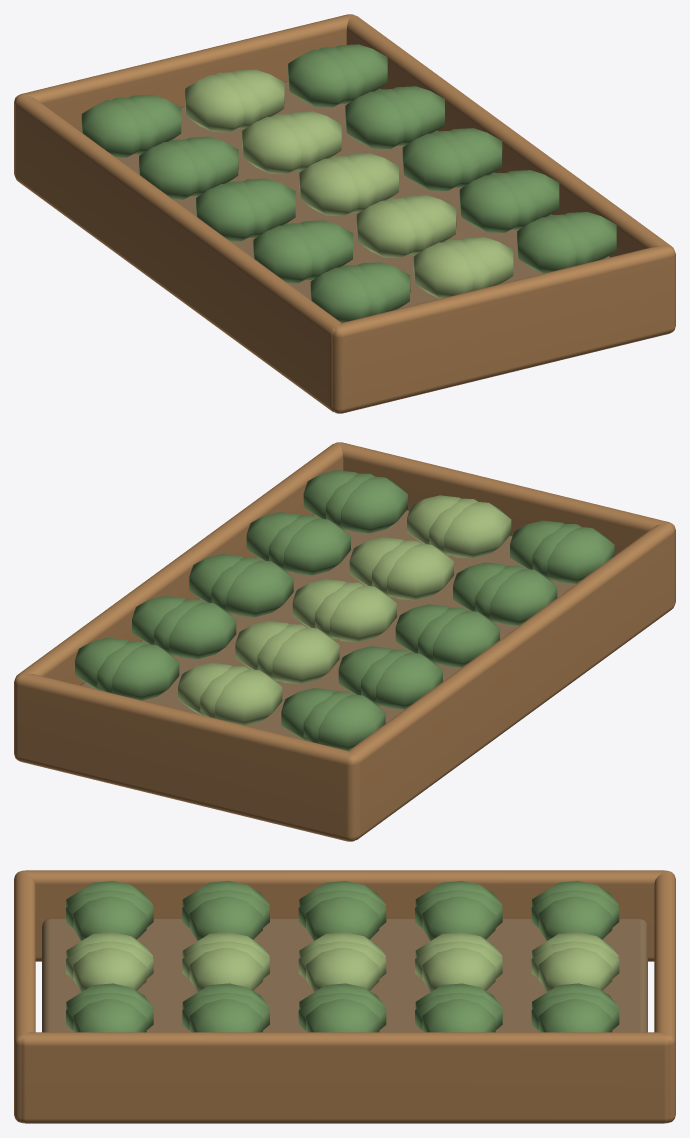
Rendered from garden-bed.glb.
The picture shows the model from 3 angles, top to bottom: view 1: azimuth 30°, elevation 25°; view 2: azimuth 150°, elevation 25°; view 3: azimuth 270°, elevation 25°; orthographic projection.
Visible parts, largest first — view 1: garden-bed_World_Mesh; view 2: garden-bed_World_Mesh; view 3: garden-bed_World_Mesh.
Boxes of the visible parts, x1,y1,x2,y2 form: garden-bed_World_Mesh: (14, 14, 675, 413); garden-bed_World_Mesh: (14, 442, 675, 841); garden-bed_World_Mesh: (14, 870, 675, 1123).
Bounding box in the file's own units: 1.67 × 0.465 × 2.73.
